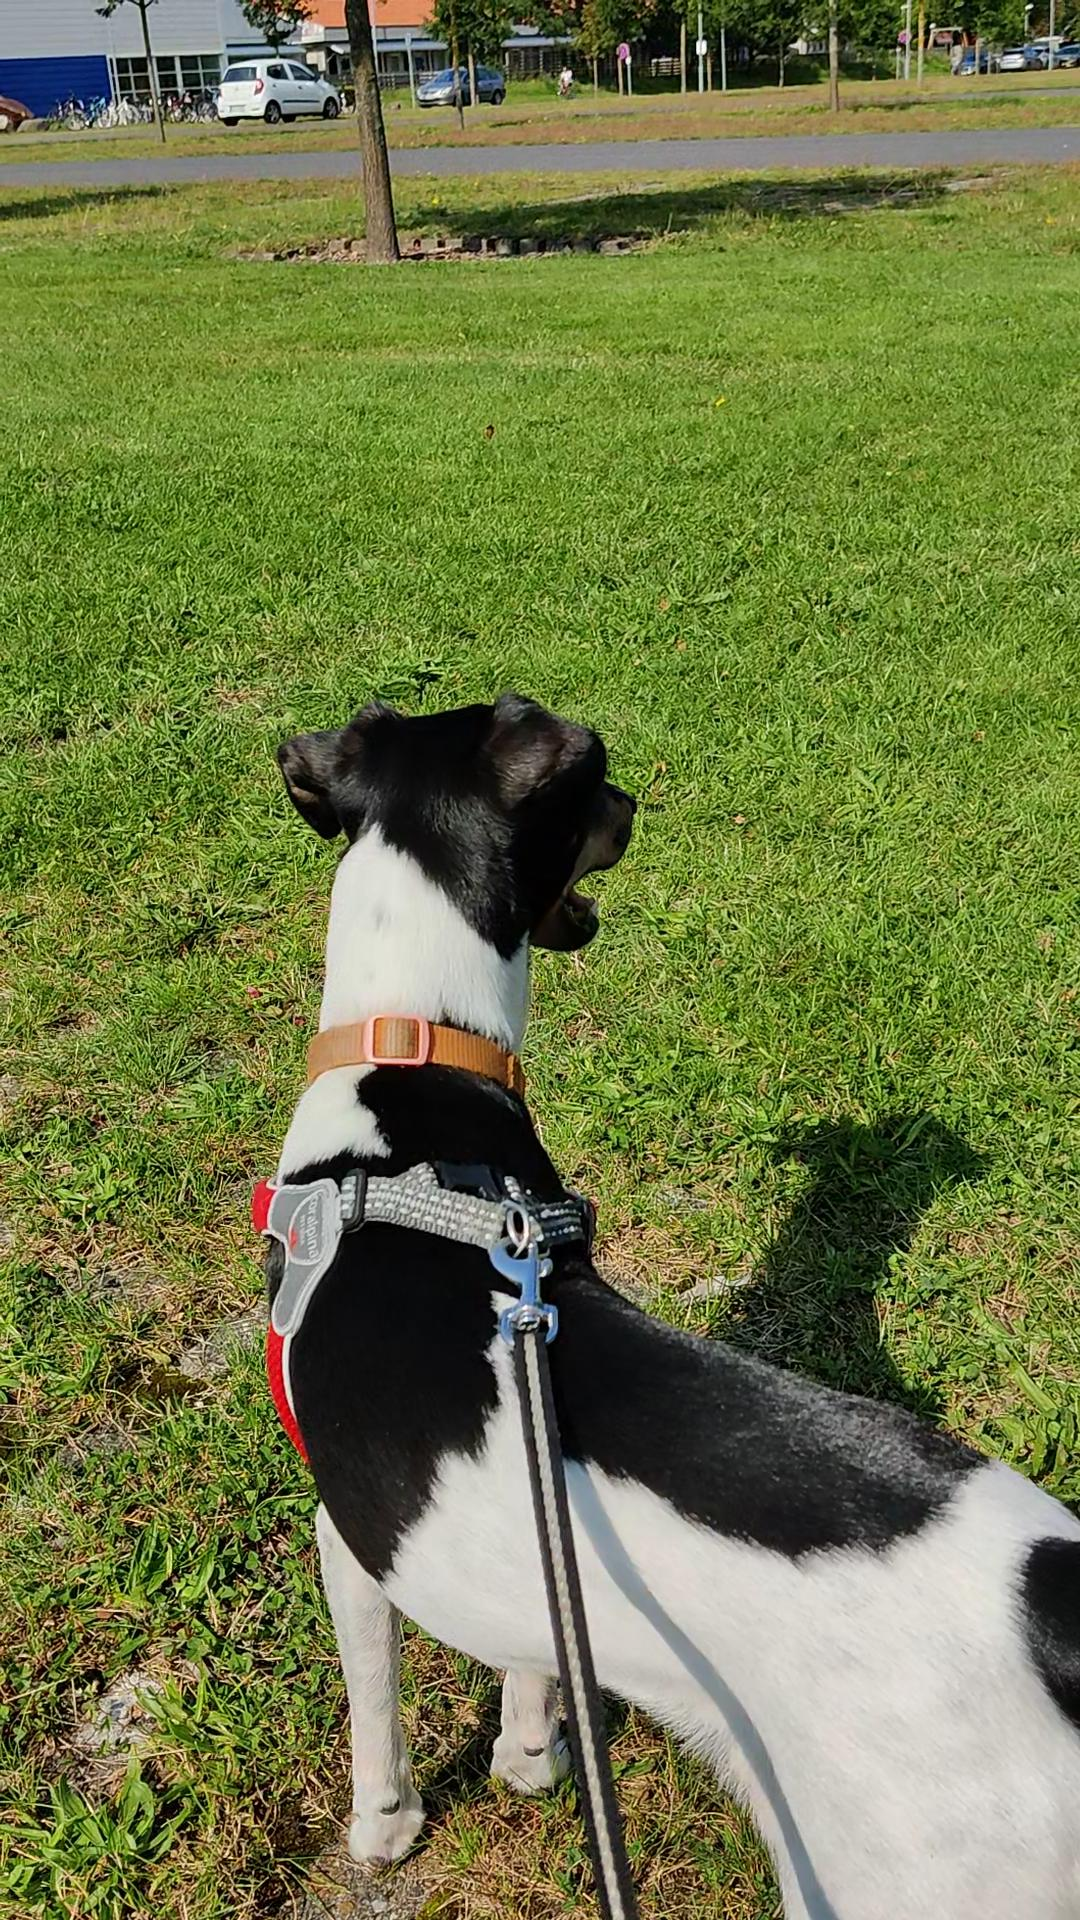Dog: (231, 669, 1079, 1919)
